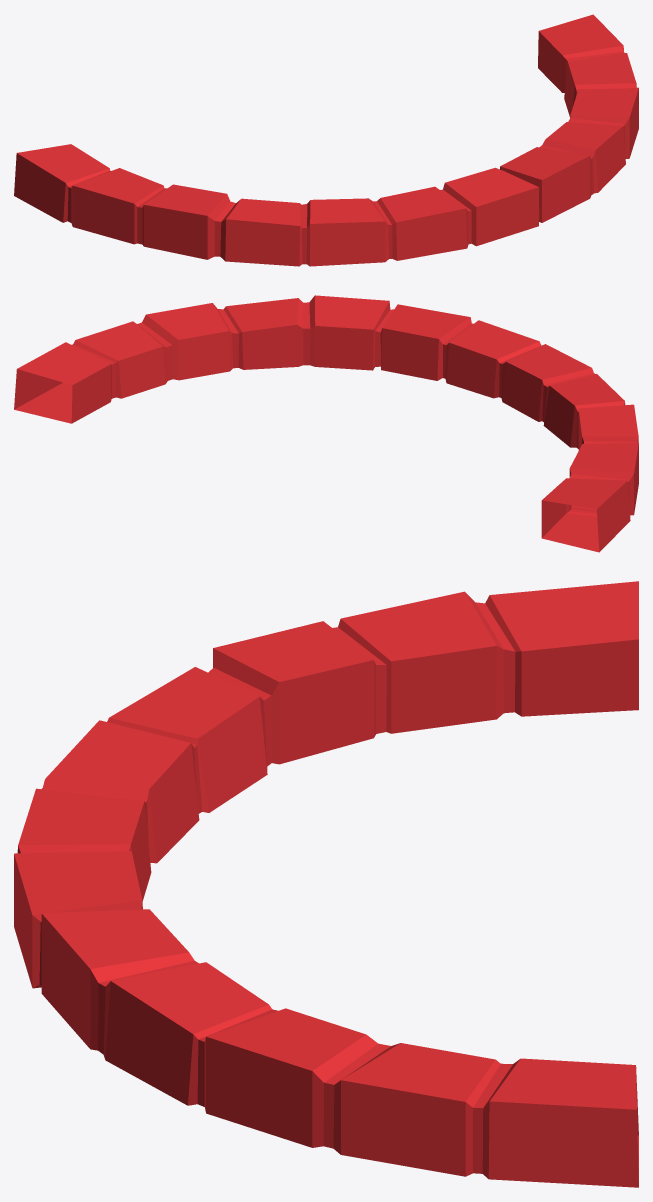
File: 红砖上.fbx
The picture shows the model from 3 angles, top to bottom: view 1: azimuth 30°, elevation 25°; view 2: azimuth 150°, elevation 25°; view 3: azimuth 270°, elevation 25°; orthographic projection. The views are drawn at different scales.
Visible parts, largest first — view 1: Half.stone.up; view 2: Half.stone.up; view 3: Half.stone.up.
Part boxes in pixels (x1,y1,x2,y2): Half.stone.up: [14, 14, 638, 266]; Half.stone.up: [14, 295, 638, 552]; Half.stone.up: [14, 581, 638, 1187].
Size of the model in its own units: 282 by 20.42 by 140.
